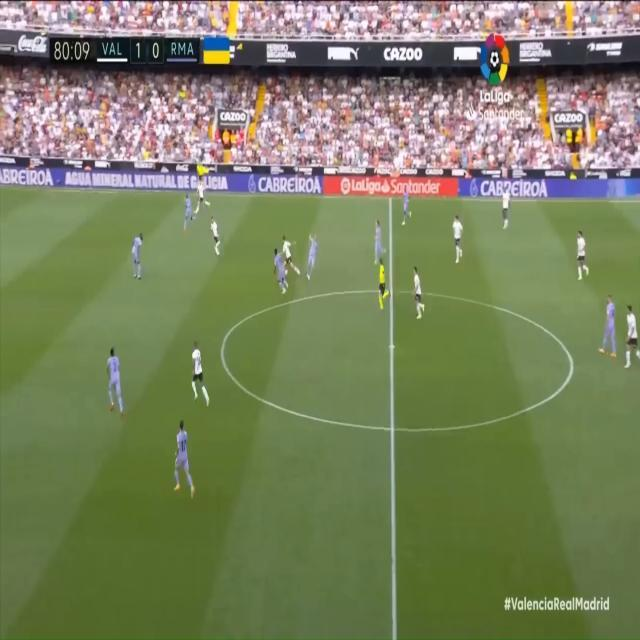ball: (284, 265, 290, 280)
player: (172, 417, 197, 500), (191, 334, 213, 409), (105, 341, 125, 418), (598, 289, 618, 363), (622, 301, 640, 373), (272, 248, 292, 299), (575, 230, 593, 284), (282, 233, 302, 281), (411, 263, 427, 322), (192, 173, 212, 220), (372, 218, 389, 269), (131, 226, 145, 284), (306, 232, 321, 283), (452, 209, 465, 267), (499, 180, 511, 237), (209, 212, 222, 255), (400, 183, 413, 225), (183, 187, 194, 234)
referee: (378, 257, 393, 311)
